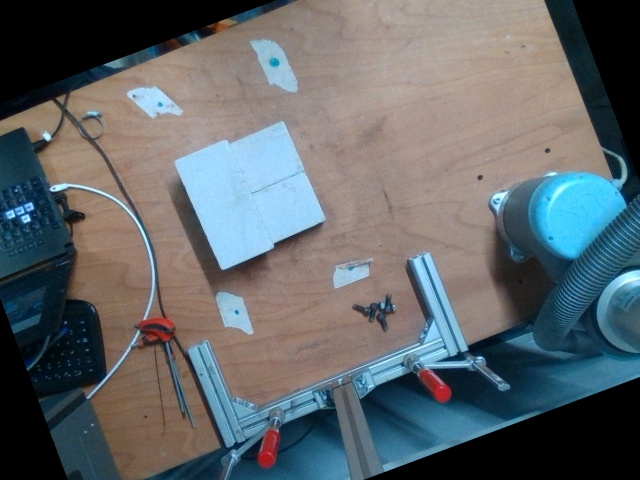brick: (173, 138, 274, 271)
